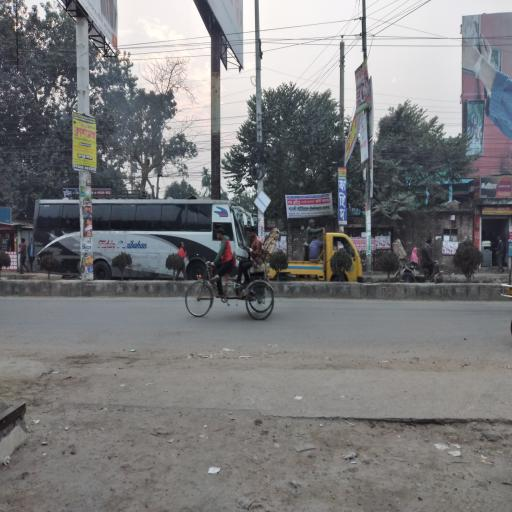bus: (29, 197, 250, 282)
pickup: (268, 227, 367, 281)
rickshaw: (185, 227, 277, 327), (391, 236, 452, 285)
